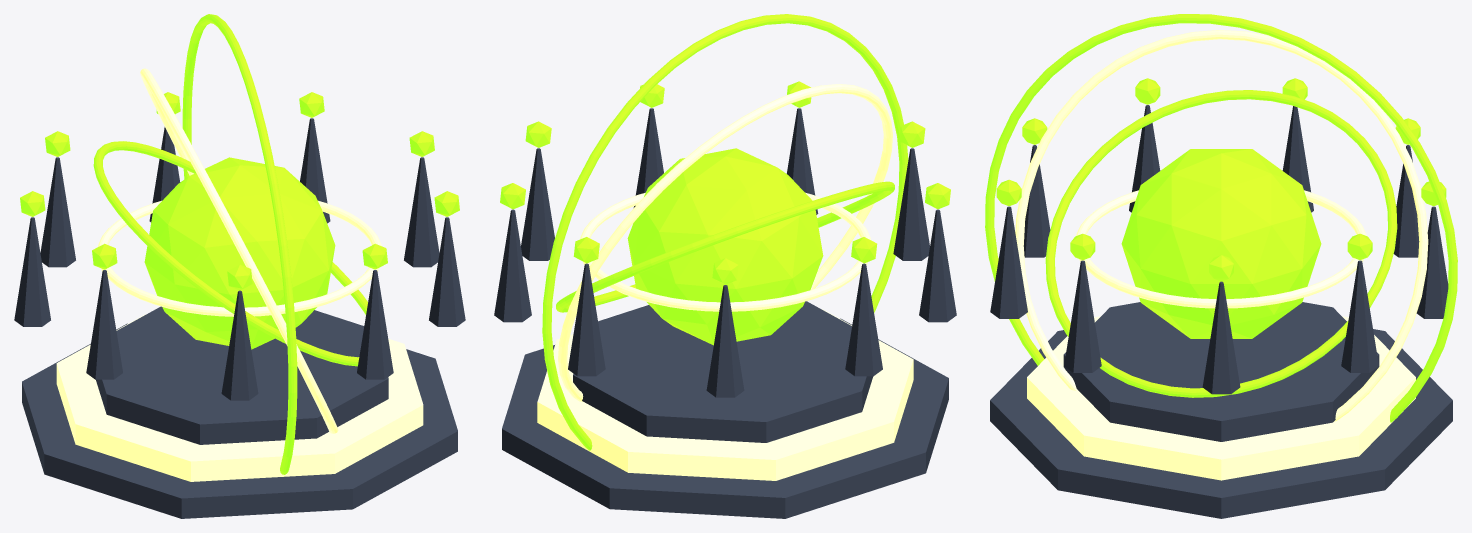
The model's file is gpu-blender-v30.glb.
3 renders of one model, left to right at view 1: azimuth 30°, elevation 25°; view 2: azimuth 150°, elevation 25°; view 3: azimuth 270°, elevation 25°, orthographic. The views are drawn at different scales.
Parts seen in each view (by area): view 1: Cylinder.002, Cylinder, SovereignCore_zoth-bot, Cylinder.001, Torus.003, Torus.001, Torus.002, Torus, Cone.006, Cone, Cone.003, Cone.005 (+13 smaller); view 2: Cylinder.002, SovereignCore_zoth-bot, Cylinder, Cylinder.001, Torus.003, Torus.002, Torus.001, Torus, Cone.002, Cone.004, Cone.001, Cone.005 (+12 smaller); view 3: SovereignCore_zoth-bot, Cylinder.002, Cylinder, Cylinder.001, Torus.003, Torus.002, Torus.001, Torus, Cone, Cone.007, Cone.001, Cone.008 (+9 smaller).
Part boxes in pixels (x1,y1,x2,y2): Cylinder.002: (96,306,388,444); Cylinder: (22,323,457,518); SovereignCore_zoth-bot: (144,157,335,349); Cylinder.001: (56,314,423,481); Torus.003: (182,14,297,474); Torus.001: (93,141,367,366); Torus.002: (140,68,338,433); Torus: (98,200,381,316); Cone.006: (221,290,258,400); Cone: (404,157,439,267); Cone.003: (40,157,75,267); Cone.005: (86,270,122,379); Cylinder.002: (573,301,873,442); SovereignCore_zoth-bot: (627,148,823,345); Cylinder: (502,318,948,518); Cylinder.001: (537,309,913,480); Torus.003: (542,14,908,450); Torus.002: (558,84,892,401); Torus.001: (556,181,894,312); Torus: (580,192,870,311); Cone.002: (568,263,605,376); Cone.004: (845,263,882,376); Cone.001: (494,209,531,322); Cone.005: (919,209,956,322); SovereignCore_zoth-bot: (1121,149,1321,338); Cylinder.002: (1063,302,1379,441); Cylinder: (990,329,1452,518); Cylinder.001: (1027,316,1415,480); Torus.003: (985,14,1457,422); Torus.002: (1015,30,1428,421); Torus.001: (1045,90,1397,397); Torus: (1076,190,1366,308); Cone: (1202,281,1240,394); Cone.007: (990,206,1027,318); Cone.001: (1341,260,1378,372); Cone.008: (1064,260,1101,372).
Size of the model in its own units: 4.41 by 4.7 by 4.49.
